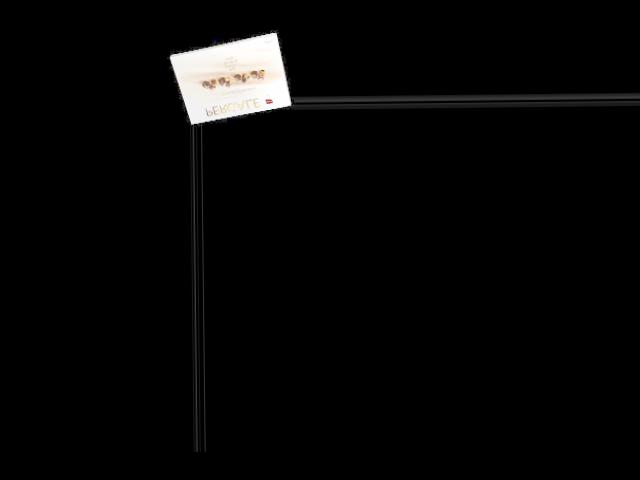chocolate: (175, 28, 286, 123)
